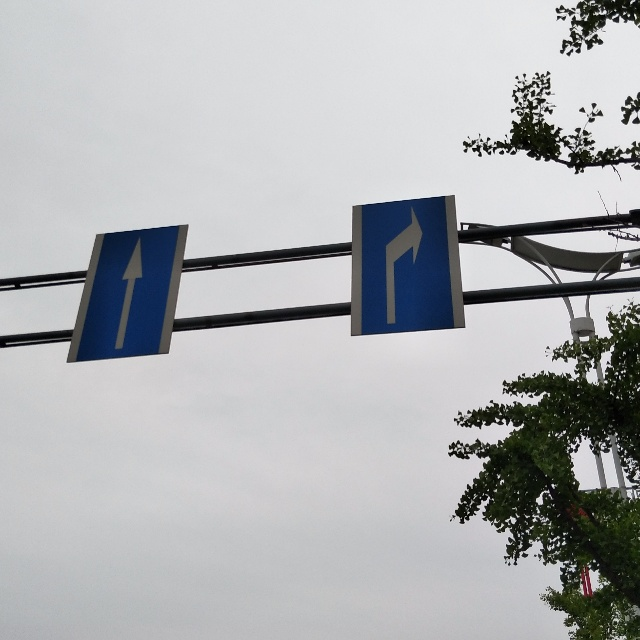right: (364, 204, 444, 327)
straight: (100, 232, 171, 355)
